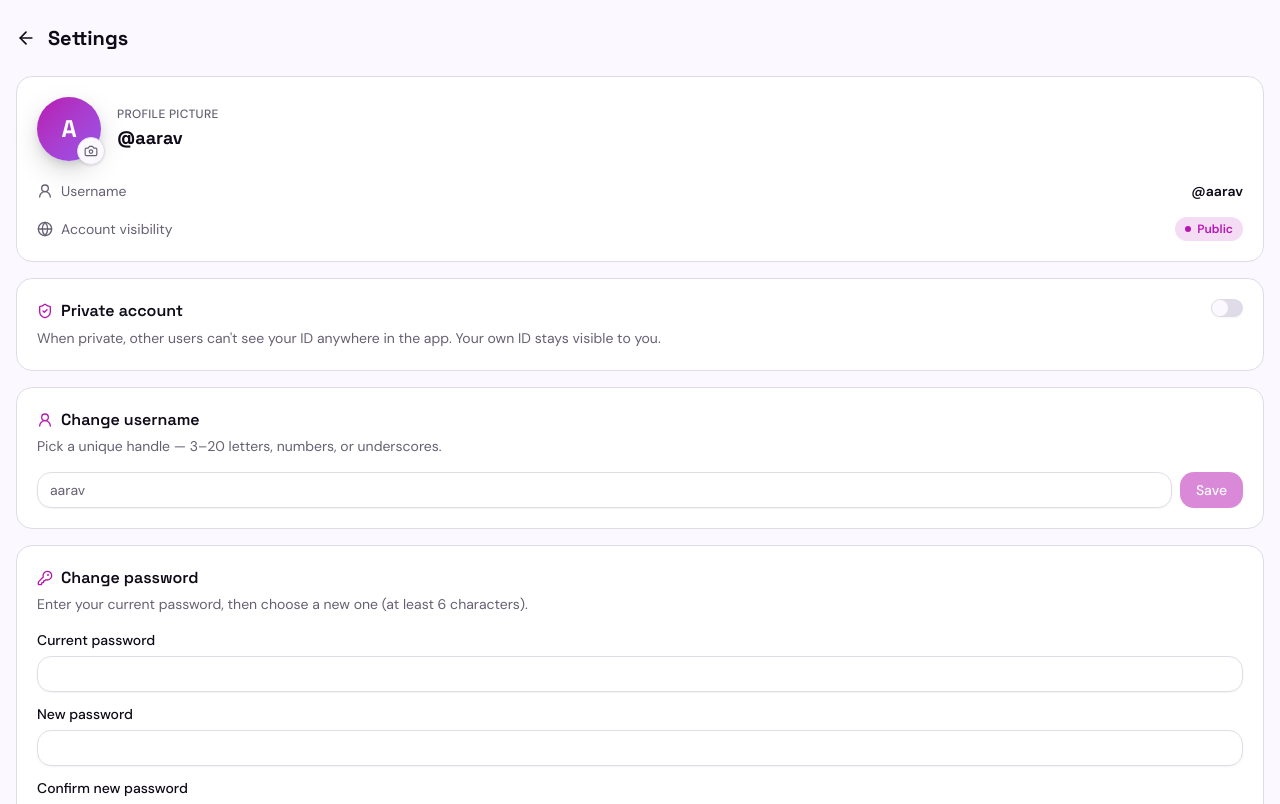
Scenario: SettingsPage › rejects a taken username with an error
Type "takenname" into the field named "New username" at {"x": 604, "y": 490}, box [37,472,1172,508]
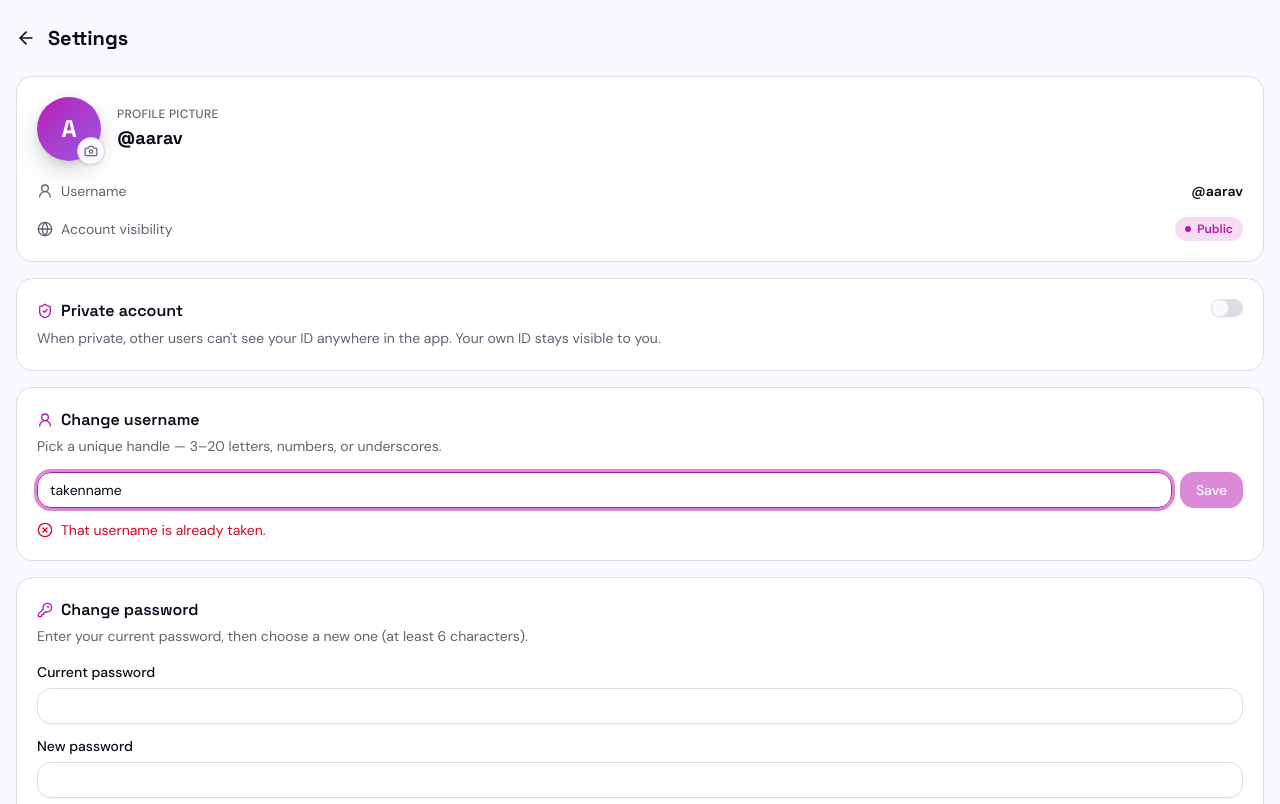
Expected: the button "Save" is disabled, [1180,472,1243,508]
Now the text "That username is already taken." is shown, box [37,521,266,539]
